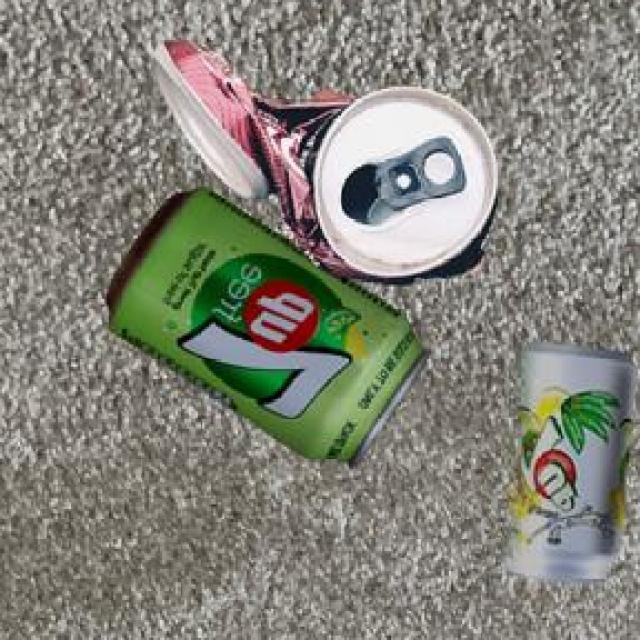logam: (103, 190, 426, 472), (148, 46, 494, 288), (508, 346, 632, 586)
